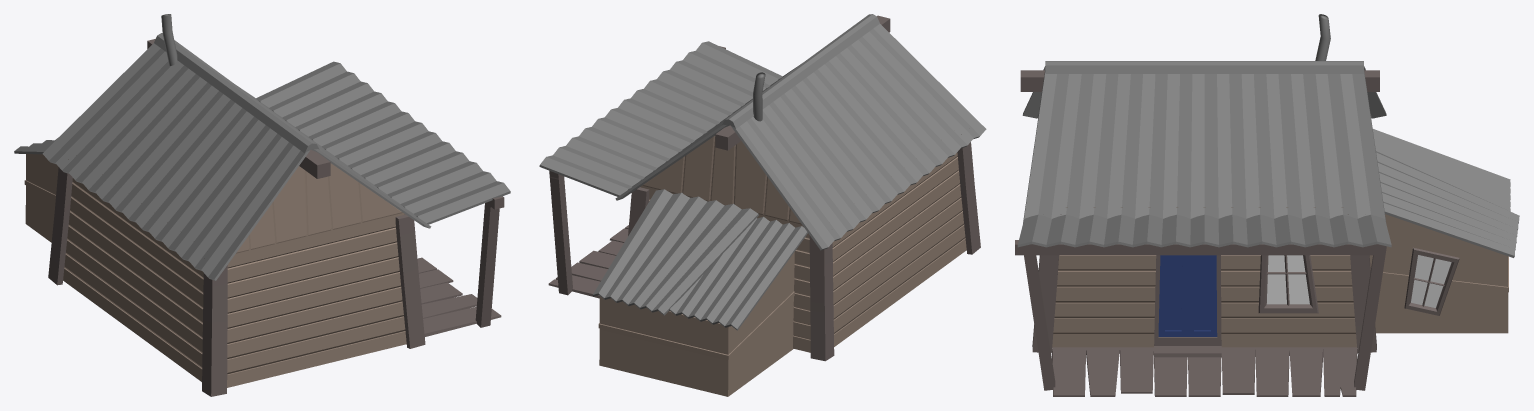
Rendered from House_Mesh_Complete_V01_Update.fbx.
The picture shows the model from 3 angles, left to right: view 1: azimuth 30°, elevation 25°; view 2: azimuth 150°, elevation 25°; view 3: azimuth 270°, elevation 25°; orthographic projection. The views are drawn at different scales.
Parts seen in each view (by area): view 1: House_Mesh_Complete_V01; view 2: House_Mesh_Complete_V01; view 3: House_Mesh_Complete_V01.
Boxes of the visible parts, x1,y1,x2,y2 form: House_Mesh_Complete_V01: (14, 14, 510, 396); House_Mesh_Complete_V01: (539, 14, 986, 396); House_Mesh_Complete_V01: (1015, 14, 1519, 396).
Bounding box in the file's own units: 665 × 553 × 914.
